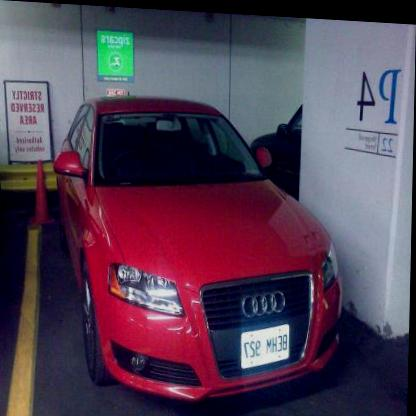License_Plate: (237, 322, 291, 371)
